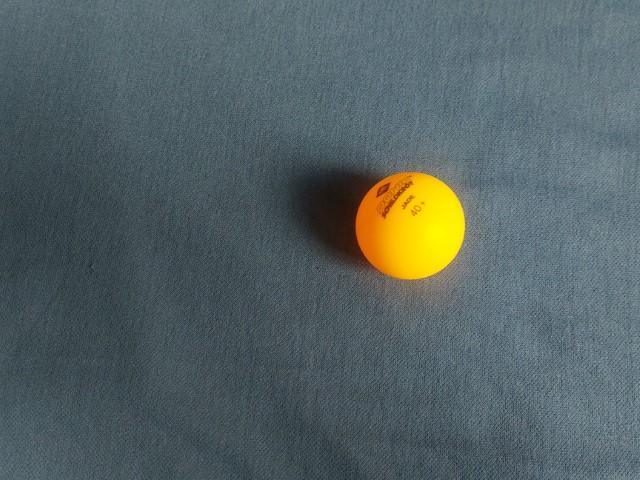oball: (169, 198, 291, 315)
